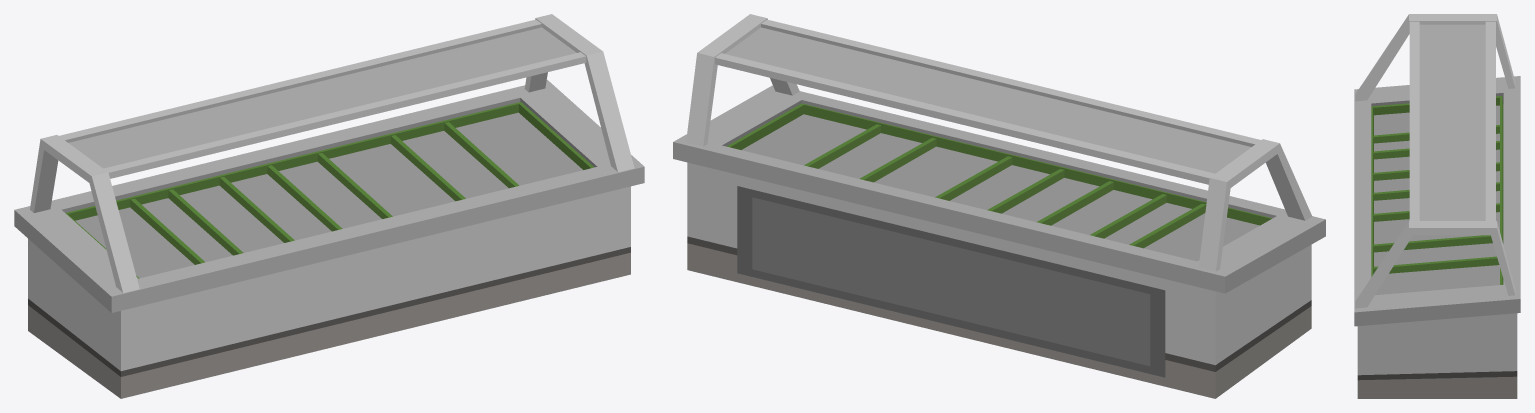
The model's file is ButcherCounter2.glb.
3 renders of one model, left to right at view 1: azimuth 30°, elevation 25°; view 2: azimuth 150°, elevation 25°; view 3: azimuth 270°, elevation 25°, orthographic. The views are drawn at different scales.
Visible parts, largest first — view 1: SI_Prop_ButcherCounter_02; view 2: SI_Prop_ButcherCounter_02; view 3: SI_Prop_ButcherCounter_02.
Part boxes in pixels (x1=…): SI_Prop_ButcherCounter_02: x1=14, y1=14, x2=644, y2=398; SI_Prop_ButcherCounter_02: x1=673, y1=14, x2=1325, y2=398; SI_Prop_ButcherCounter_02: x1=1354, y1=14, x2=1520, y2=398.
Size of the model in its own units: 0.0694 by 0.0249 by 0.0219.
Materials: 1 (1 with a texture image).
